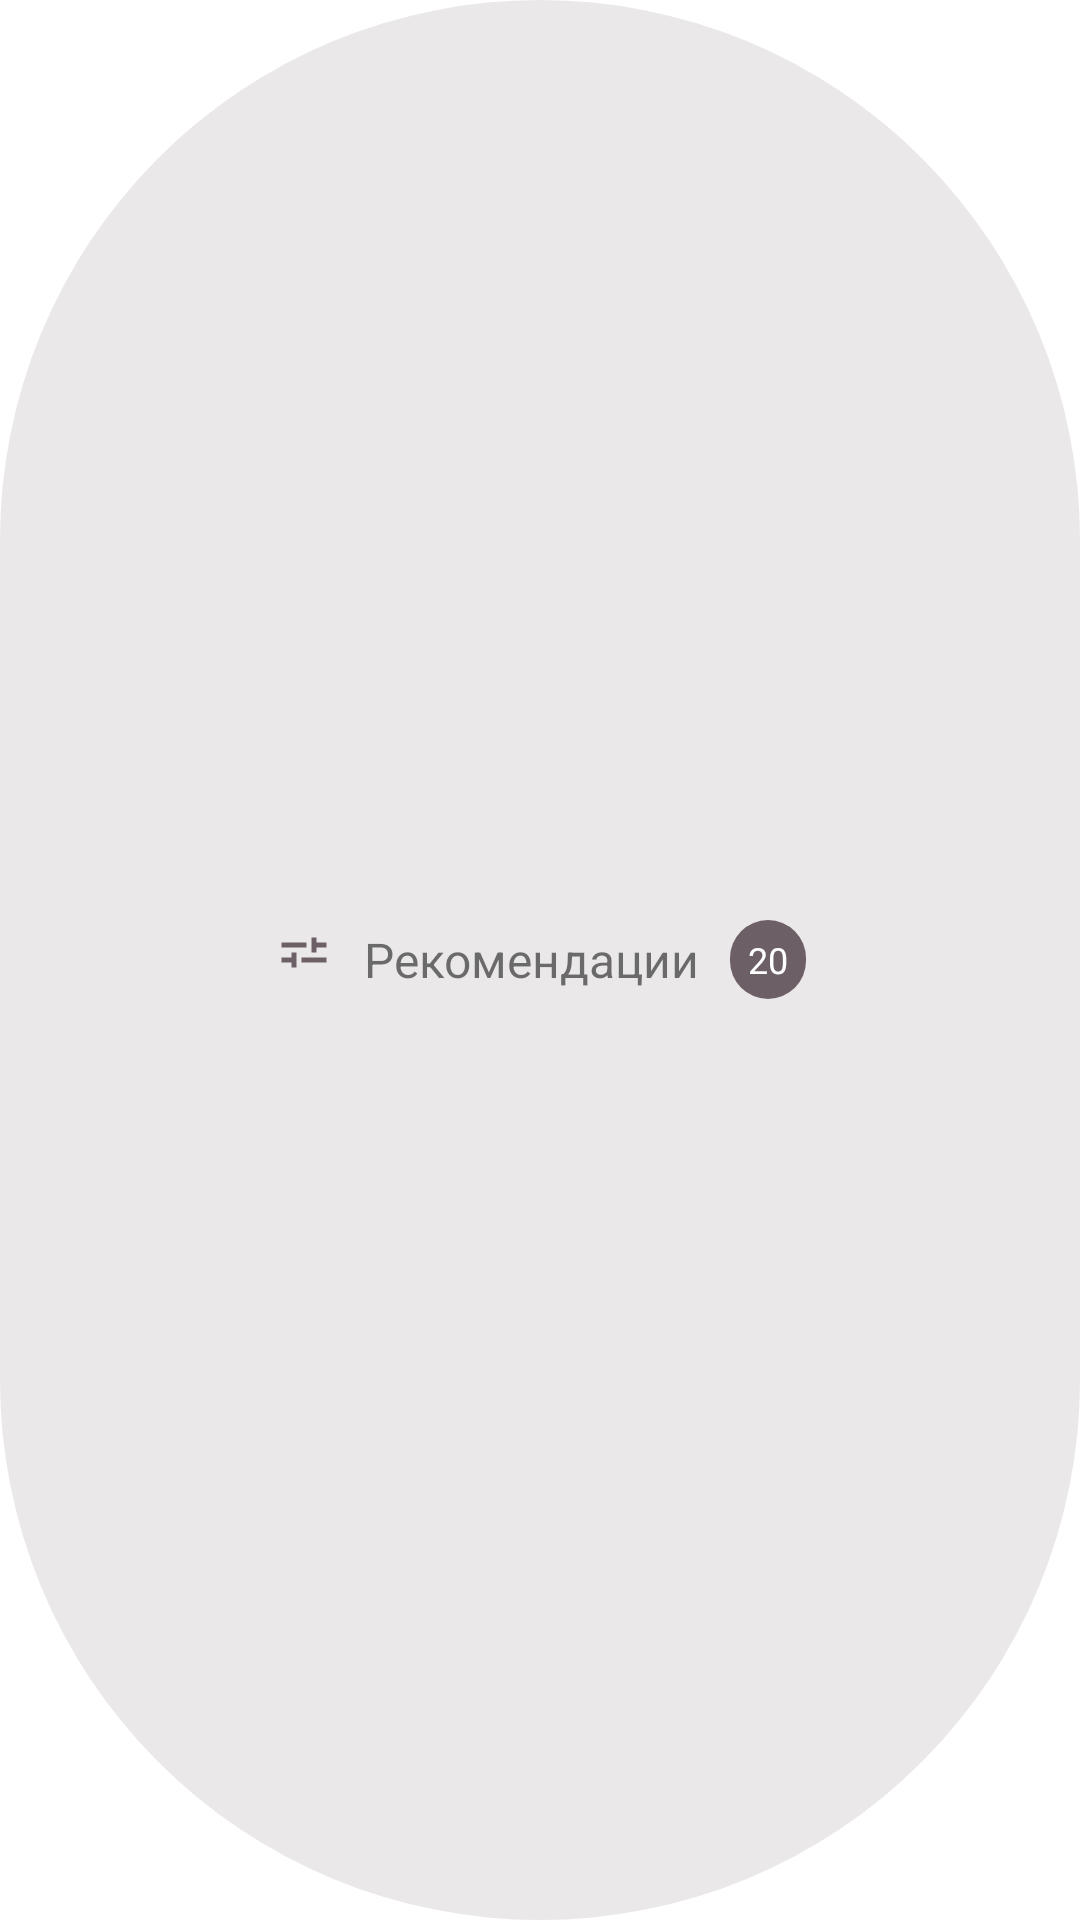

Where icons sit on this 1080×1920 app screen, as bbox(x1, y1, x2, y2):
filter: bbox(281, 937, 327, 968)
